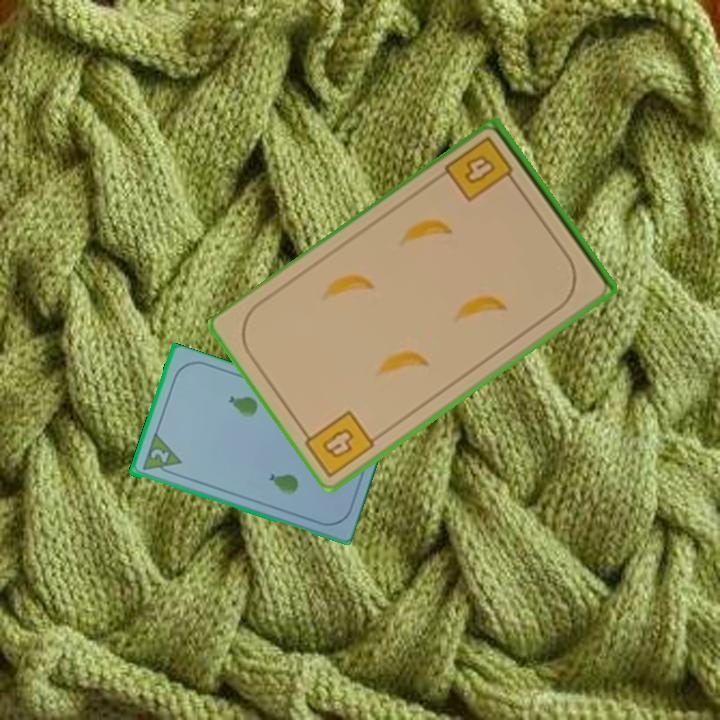2p: (138, 431, 184, 479)
4b: (297, 407, 378, 480), (442, 133, 522, 205)
